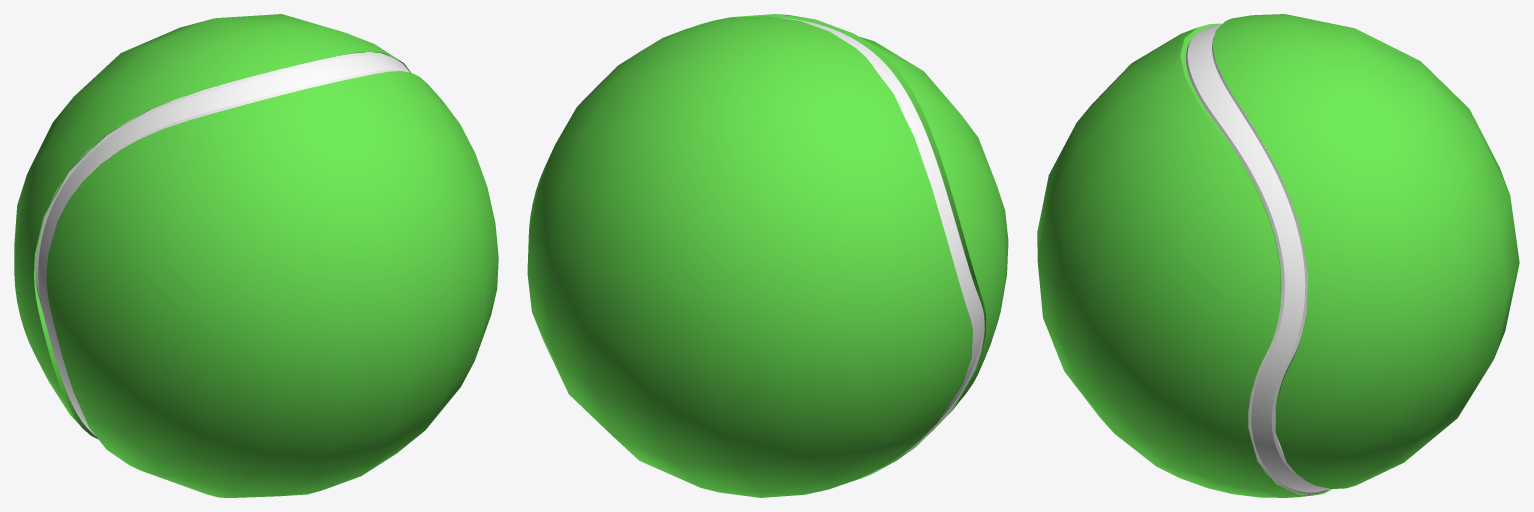
The model's file is top 1.fbx.
3 views of the same model, side by side, from view 1: azimuth 30°, elevation 25°; view 2: azimuth 150°, elevation 25°; view 3: azimuth 270°, elevation 25° (orthographic).
Visible parts, largest first — view 1: top alt, top, top orta; view 2: top, top alt, top orta; view 3: top, top alt, top orta.
Boxes of the visible parts, x1,y1,x2,y2 form: top alt: (46,71,498,497); top: (14,14,410,438); top orta: (35,52,409,443); top: (527,16,972,497); top alt: (696,14,1008,491); top orta: (594,17,984,475); top: (1212,14,1519,488); top alt: (1037,23,1331,497); top orta: (1185,24,1329,494).
Size of the model in its own units: 3595 by 3598 by 3580.
